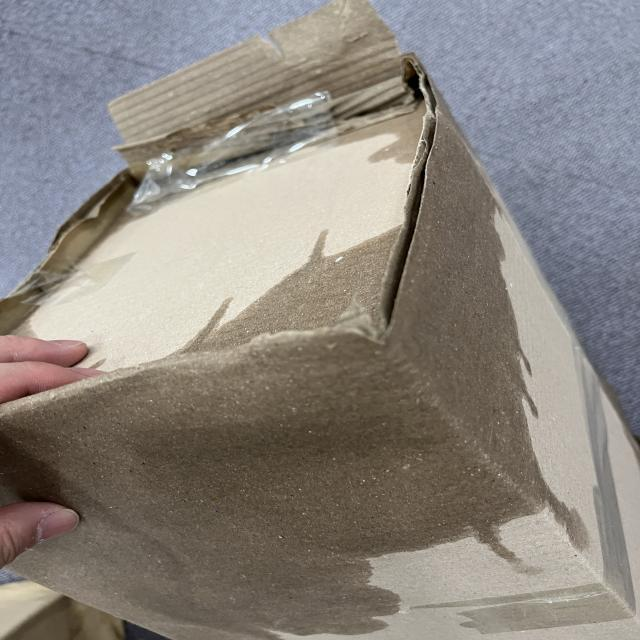wet: (62, 157, 578, 640)
